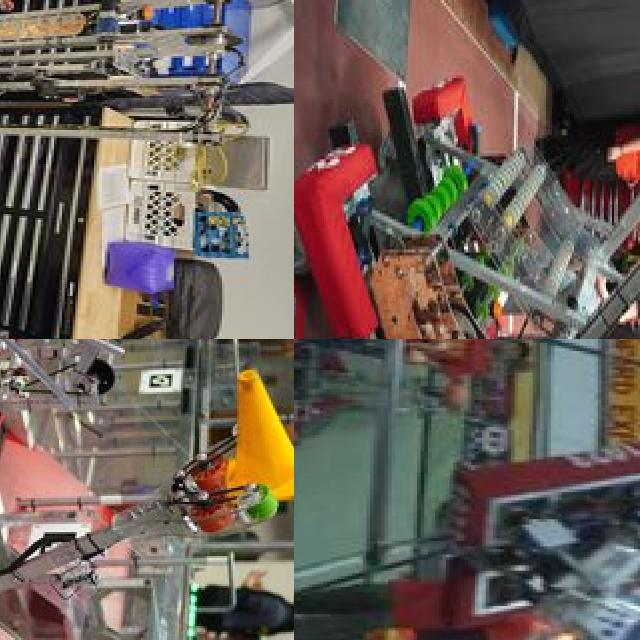FRC-Robots: (322, 9, 640, 339), (0, 346, 294, 640), (0, 0, 262, 193), (443, 429, 640, 640), (0, 339, 180, 448)
